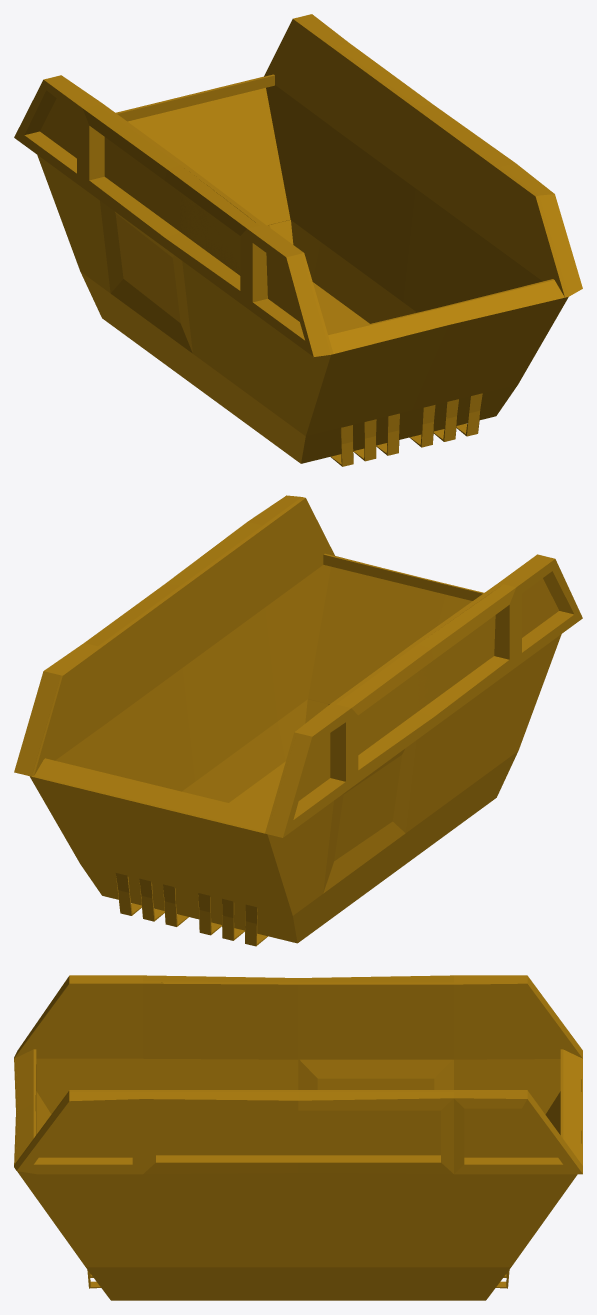
3 renders of one model, top to bottom at view 1: azimuth 30°, elevation 25°; view 2: azimuth 150°, elevation 25°; view 3: azimuth 270°, elevation 25°, orthographic. The views are drawn at different scales.
Visible parts, largest first — view 1: scip; view 2: scip; view 3: scip.
Boxes of the visible parts, left/top/right/bottom form: scip: left=14, top=14, right=582, bottom=466; scip: left=14, top=495, right=582, bottom=946; scip: left=14, top=975, right=582, bottom=1300.
Size of the model in its own units: 478 by 397 by 929.
